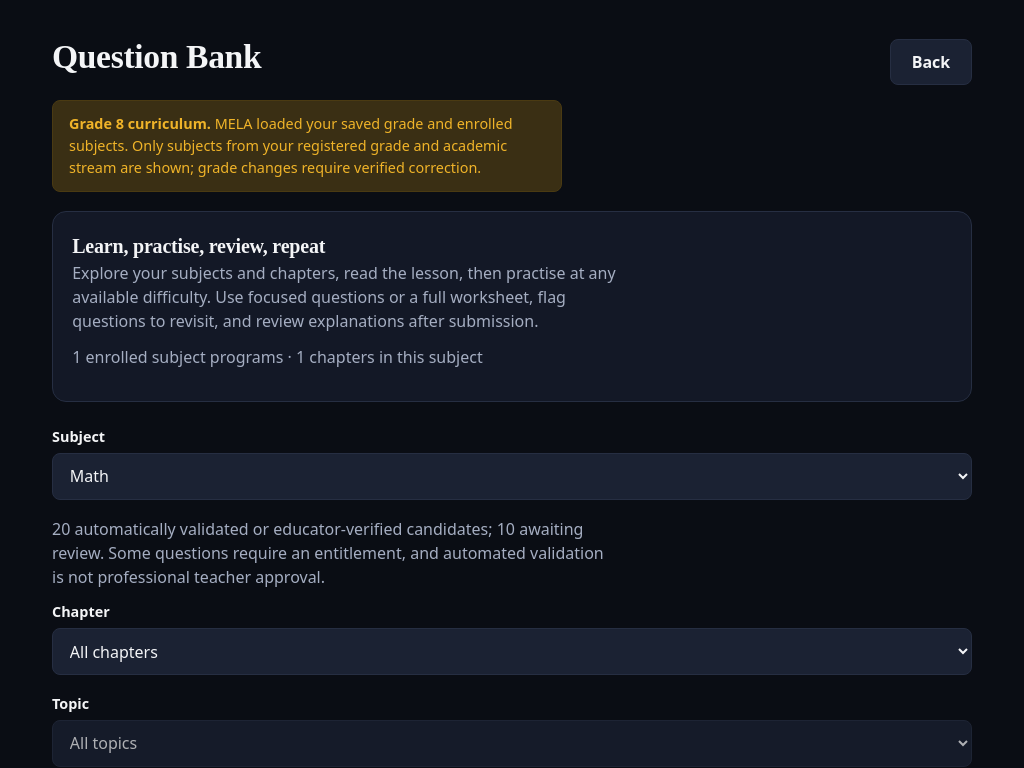
it: broadens a sparse selection only within the same authorized subject
Select "Algebra (20 validated)" in the dropdown labelled "Chapter" at (512, 652), box x1=52 y1=628 x2=972 y2=675
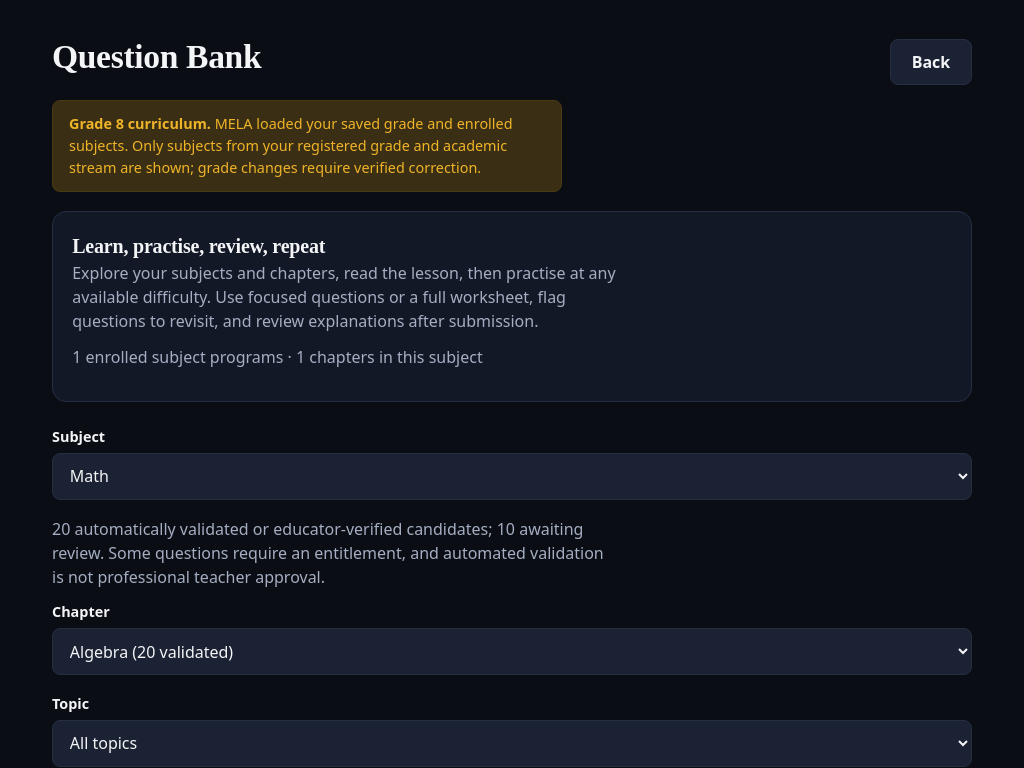
Select "Equations (20 validated)" in the dropdown labelled "Topic" at (512, 743), box x1=52 y1=720 x2=972 y2=767
(page scrolled)
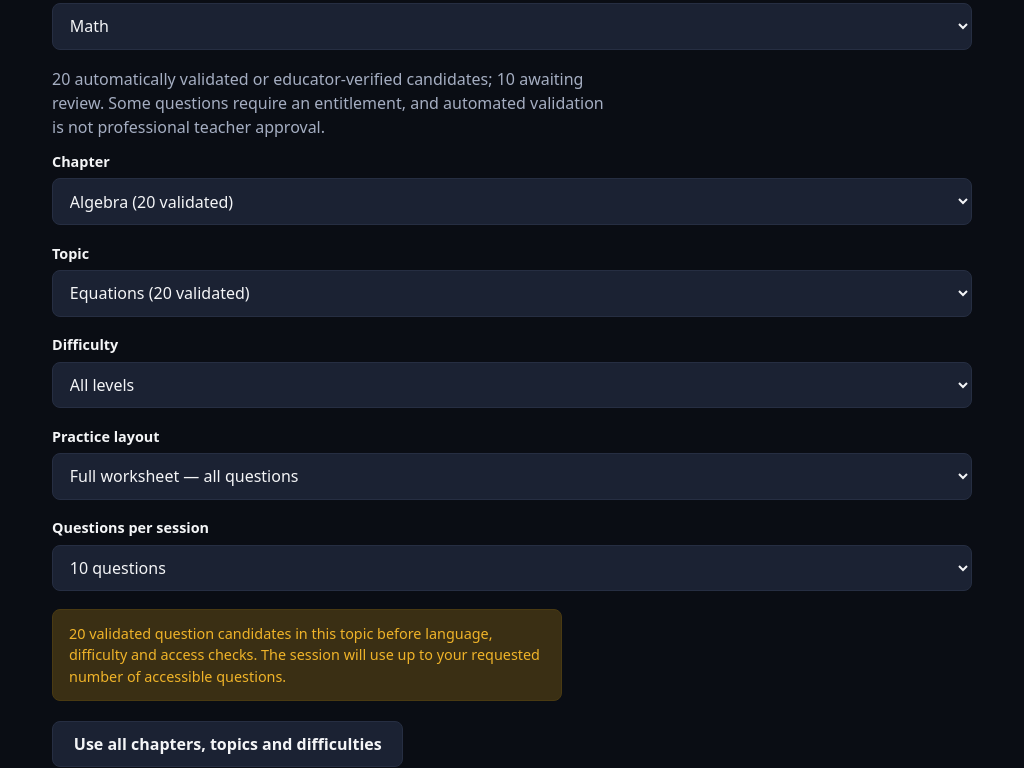
Select "Level 5" in the dropdown labelled "Difficulty" at (512, 385), box x1=52 y1=362 x2=972 y2=408
(page scrolled)
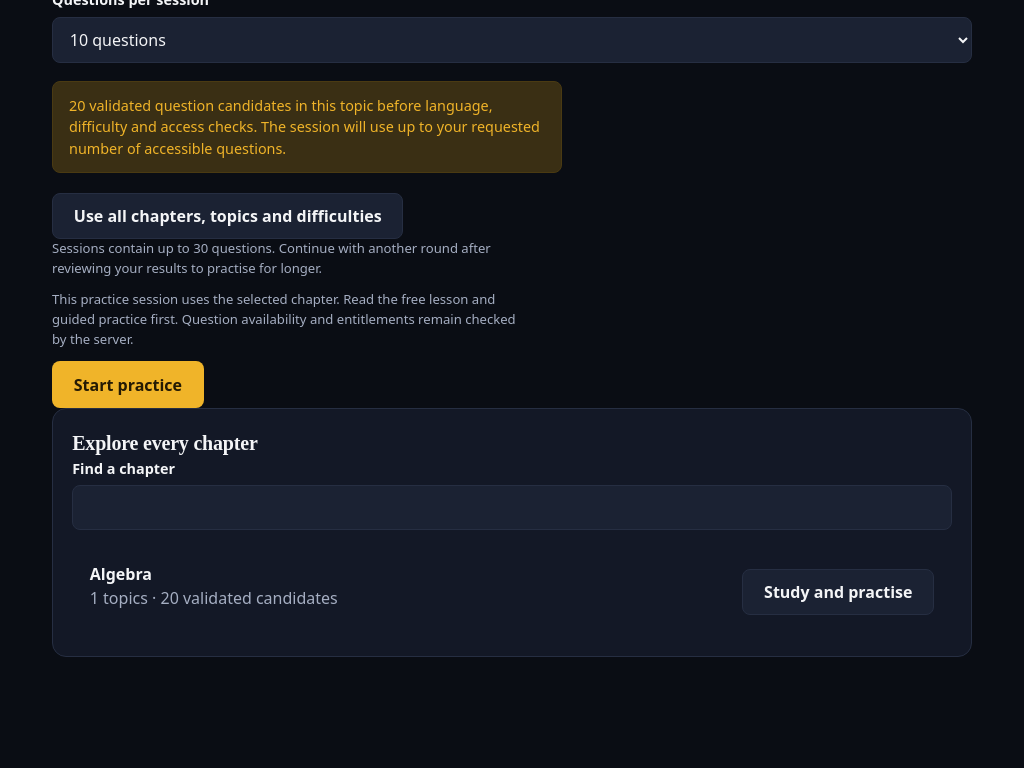
Click the button "Start practice" at (128, 385), box x1=52 y1=362 x2=204 y2=408
(page scrolled)
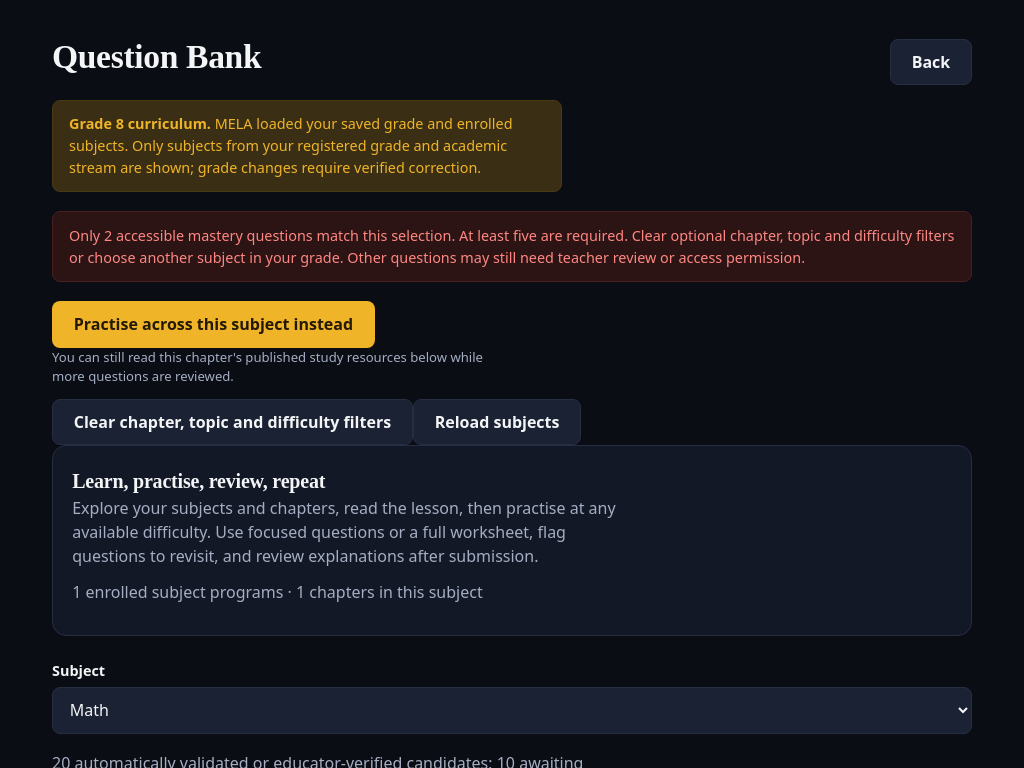
Click the button "Practise across this subject instead" at (213, 324), box x1=52 y1=301 x2=375 y2=348
(page scrolled)
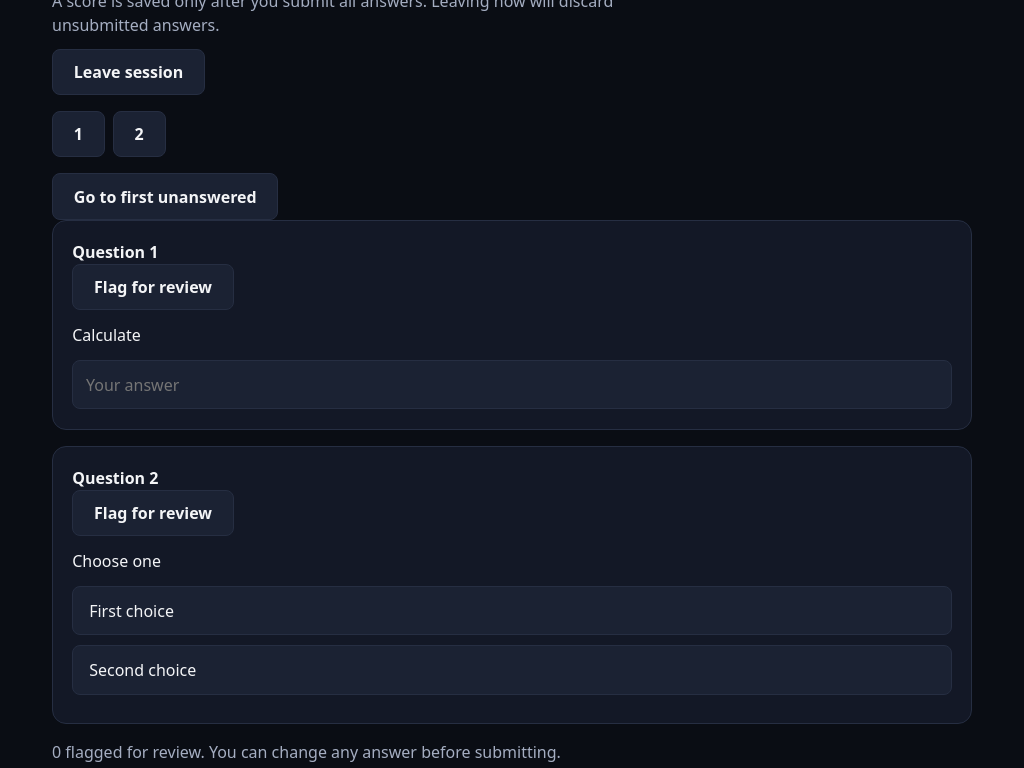
Expected: the number field labelled "Calculate" is shown, x1=72 y1=360 x2=952 y2=409
